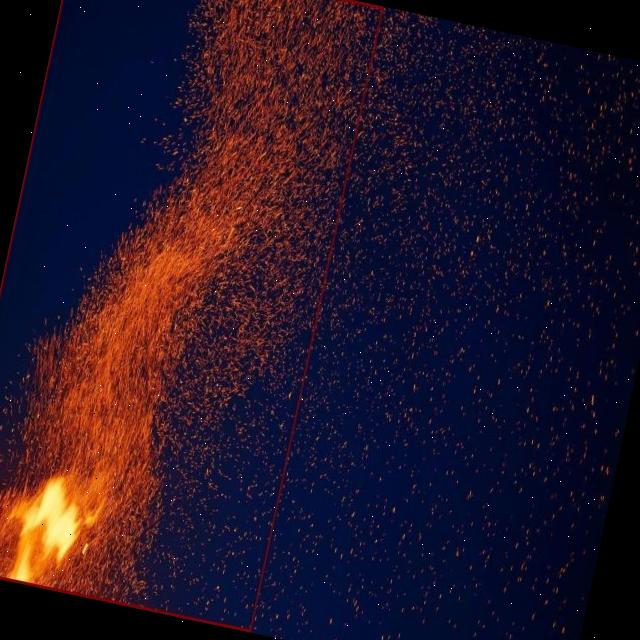fire: (0, 0, 382, 631)
